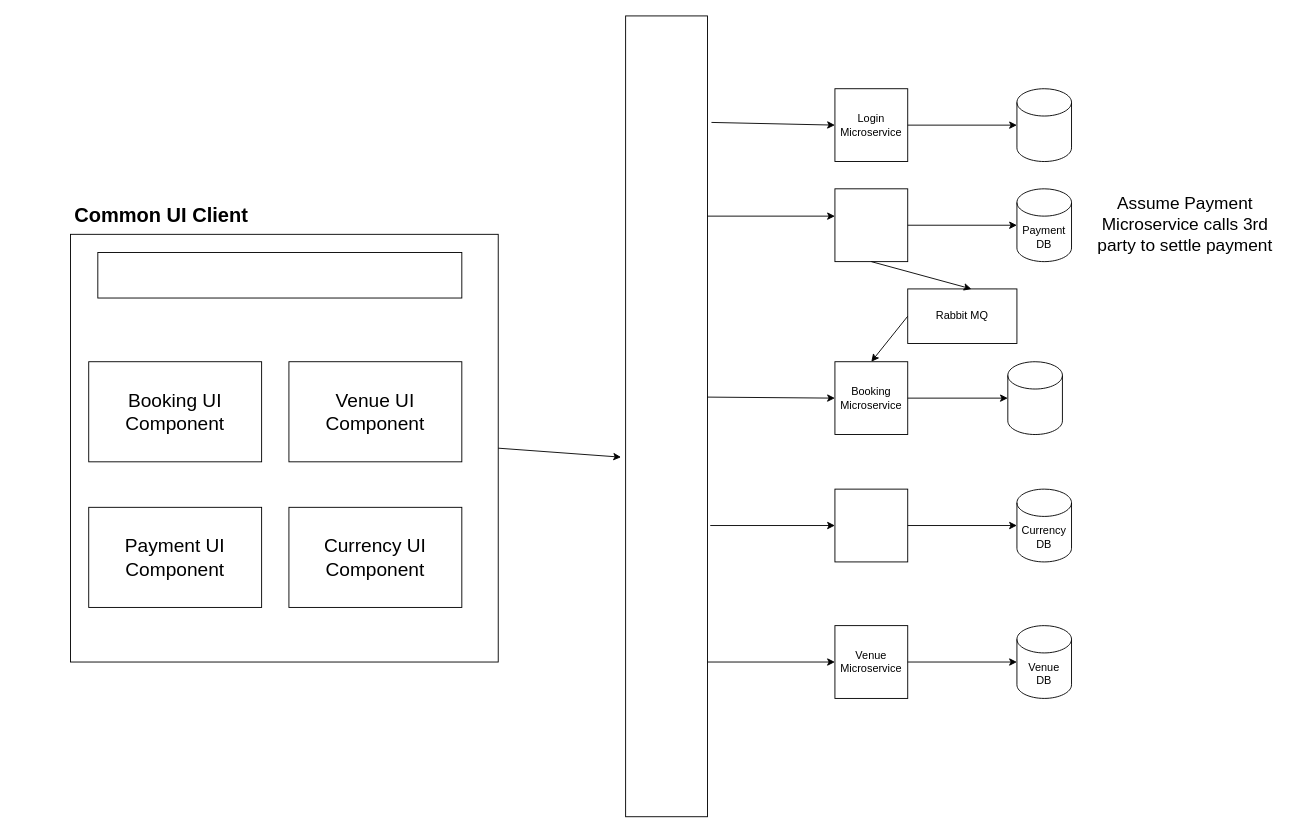
Image size: 1296x833. Some labels were removed from this diagram. The box of each missing label's shape, as (x1, y1, x2, y2) in pixels:
API Gateway: (625, 15, 708, 817)
Booking DB: (1007, 361, 1062, 435)
Currency Microservice: (834, 488, 908, 562)
Login DB: (1016, 88, 1072, 162)
Login UI Component: (97, 252, 462, 298)
Payment Microservice: (834, 188, 908, 262)
